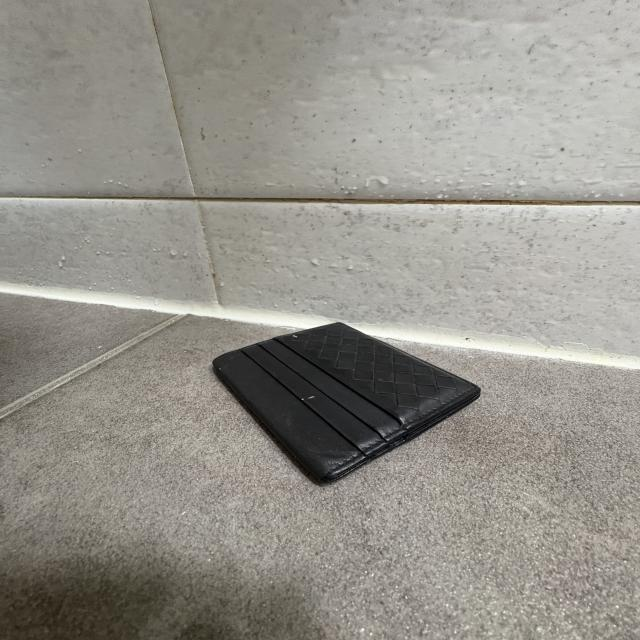wallet: (209, 320, 484, 487)
